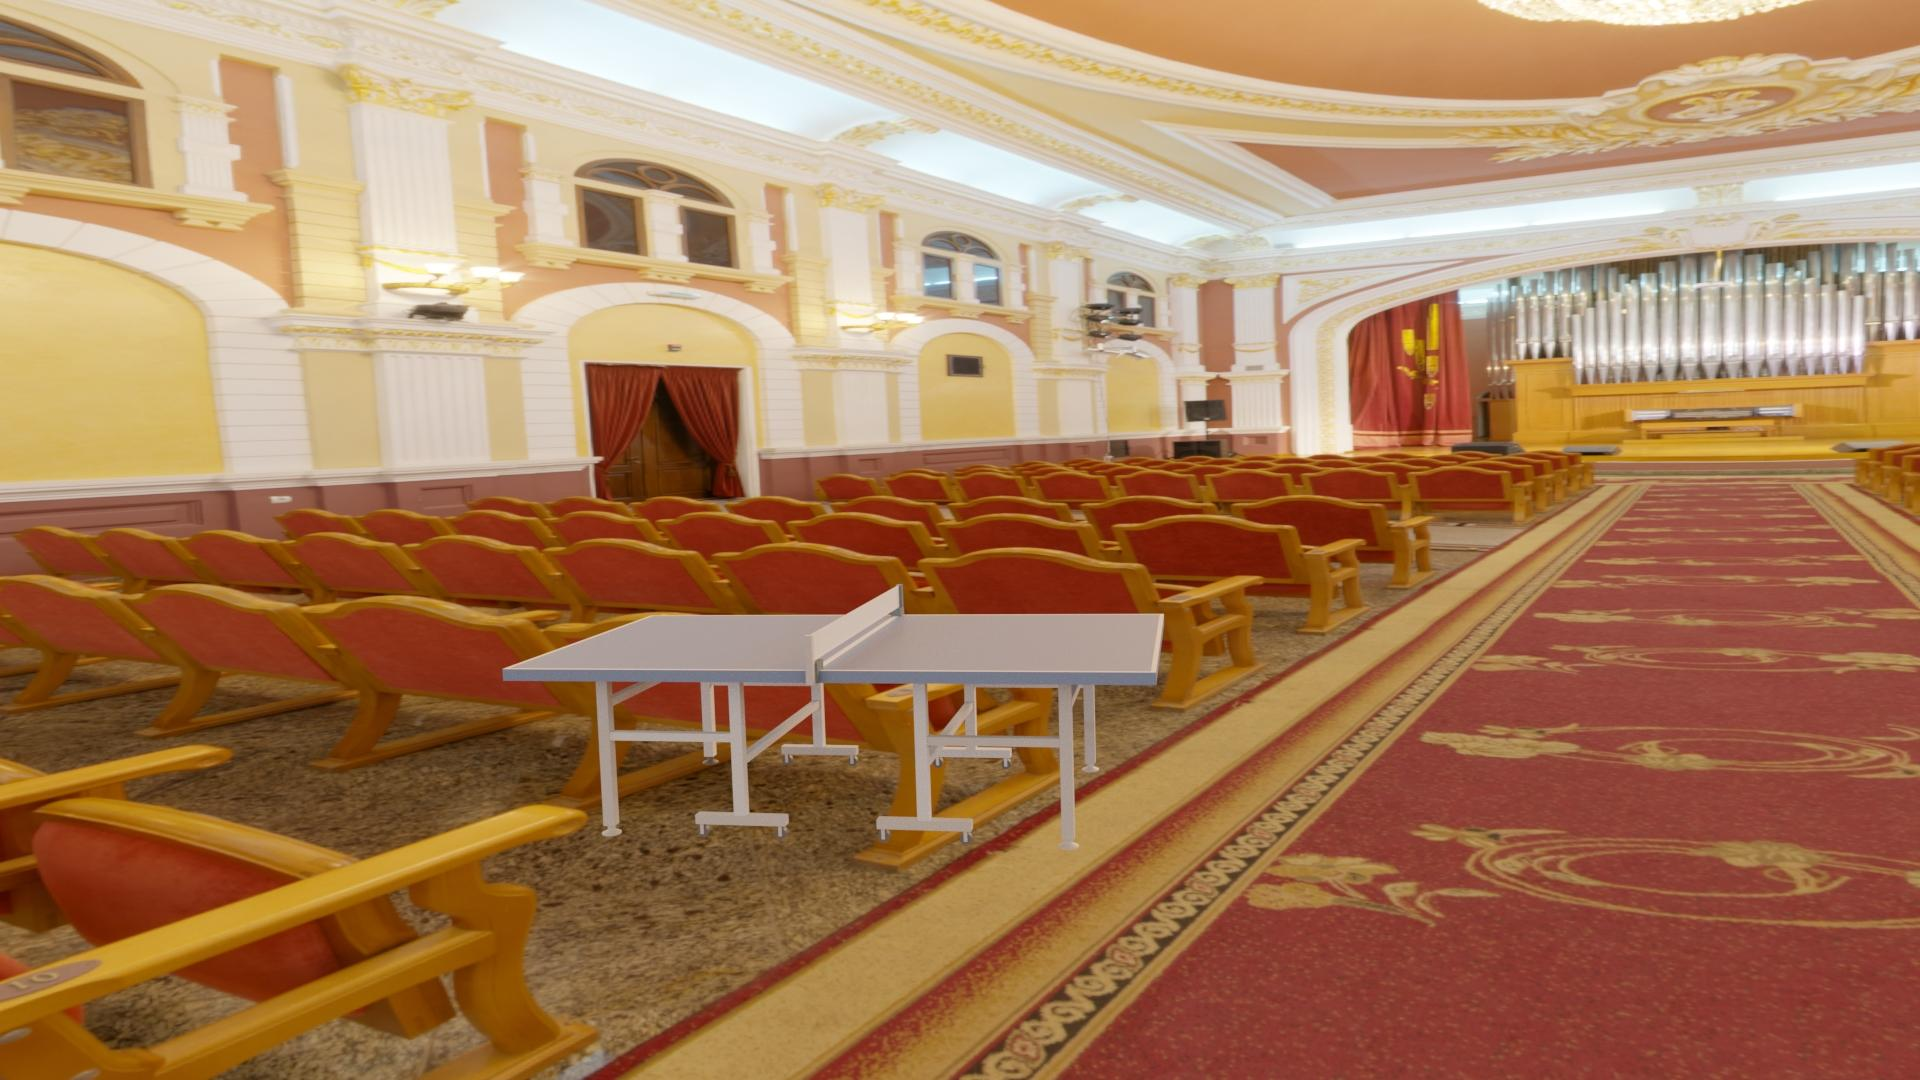table: (509, 615, 1160, 671)
